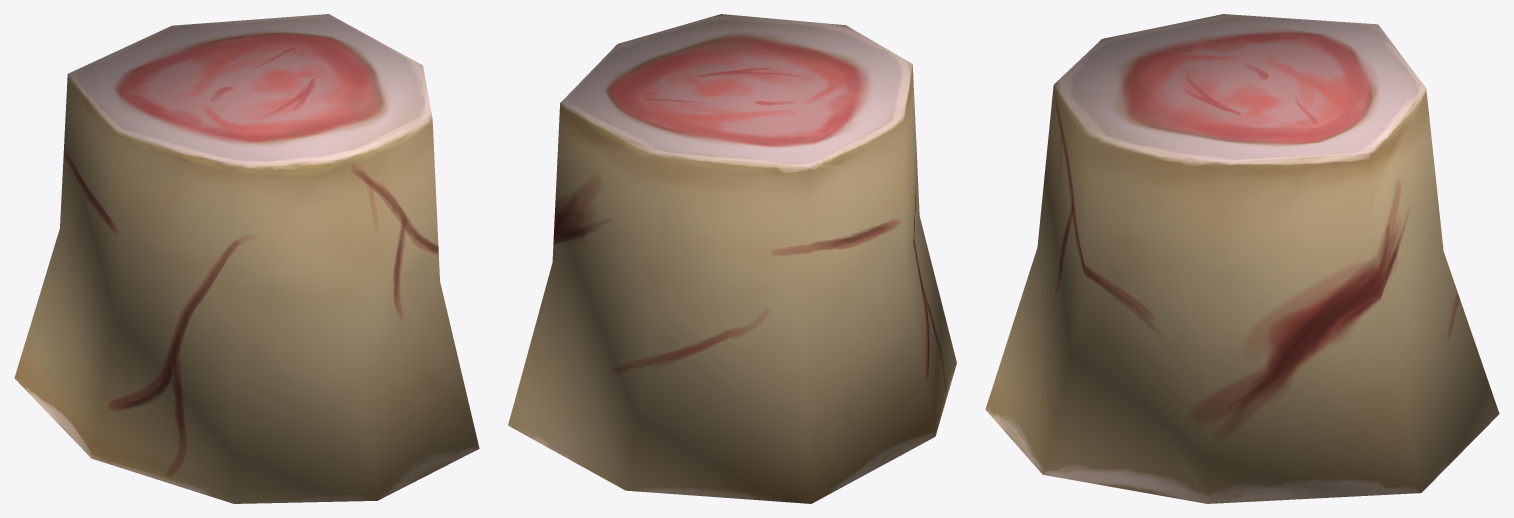
The model's file is born_beef_maru.fbx.
3 renders of one model, left to right at view 1: azimuth 30°, elevation 25°; view 2: azimuth 150°, elevation 25°; view 3: azimuth 270°, elevation 25°, orthographic. The views are drawn at different scales.
Parts seen in each view (by area): view 1: beef born maru; view 2: beef born maru; view 3: beef born maru.
Part boxes in pixels (x1,y1,x2,y2): beef born maru: [14, 14, 479, 503]; beef born maru: [508, 14, 956, 503]; beef born maru: [985, 14, 1499, 503].
Size of the model in its own units: 15.71 by 13.22 by 18.92.
